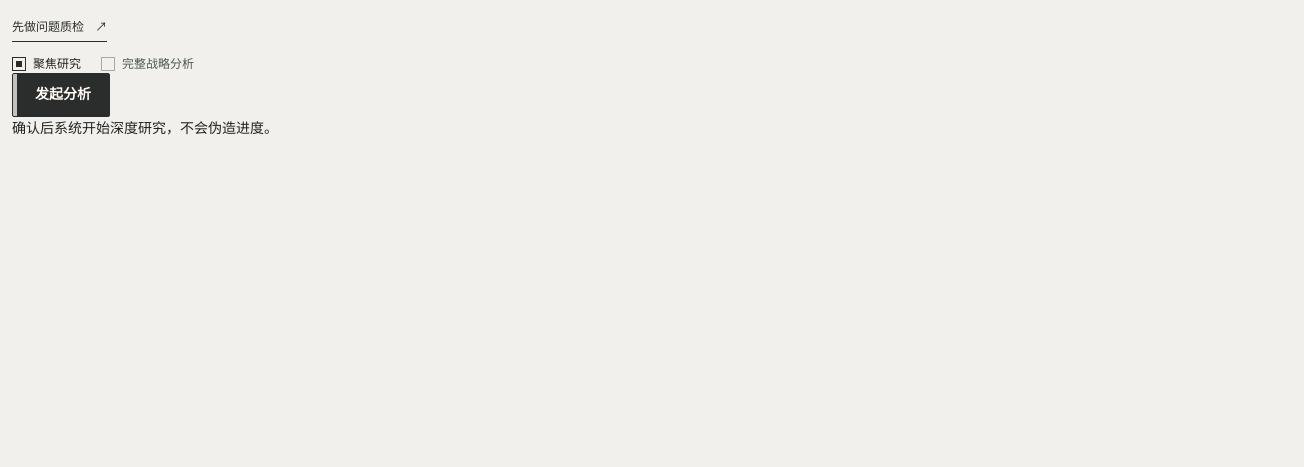
it: AnalysisLaunchPanel › renders the SSE thinking trace and the blocked guidance from findings
Click the button "发起分析": coordinates (61, 95) [12, 73, 110, 117]
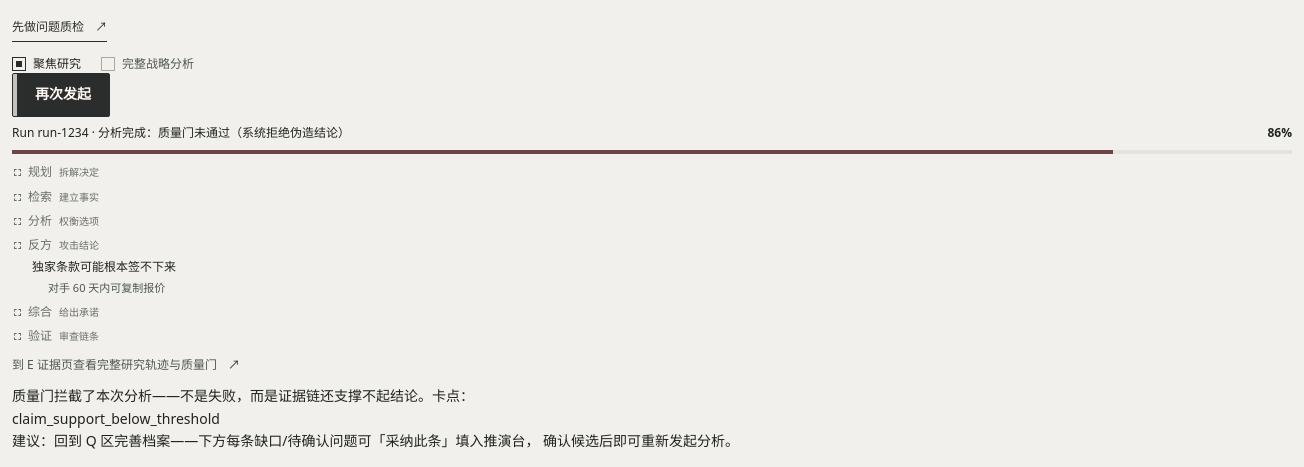
Result: the list named "分析阶段与思考轨迹" shows "独家条款可能根本签不下来" at [32, 258, 176, 275]
Result: the list item "反方 攻击结论 独家条款可能根本签不下来 对手 60 天内可复制报价" is shown at [14, 236, 176, 295]
Result: the element that starts with "质量门拦截了本次分析——不是失败，而是证据链还支撑不起结论。卡点：" is shown at [12, 386, 739, 450]
